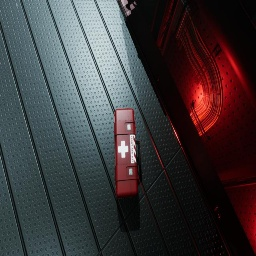FirstAidBox ,: (114, 108, 141, 199)
